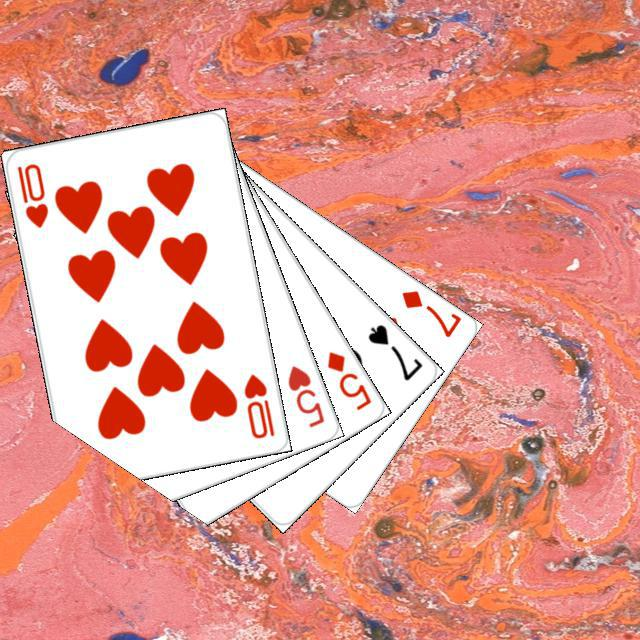10h: (238, 369, 277, 441), (11, 158, 50, 230)
5d: (322, 346, 373, 412)
5h: (282, 360, 326, 430)
7d: (396, 285, 462, 340)
7s: (362, 319, 424, 383)
